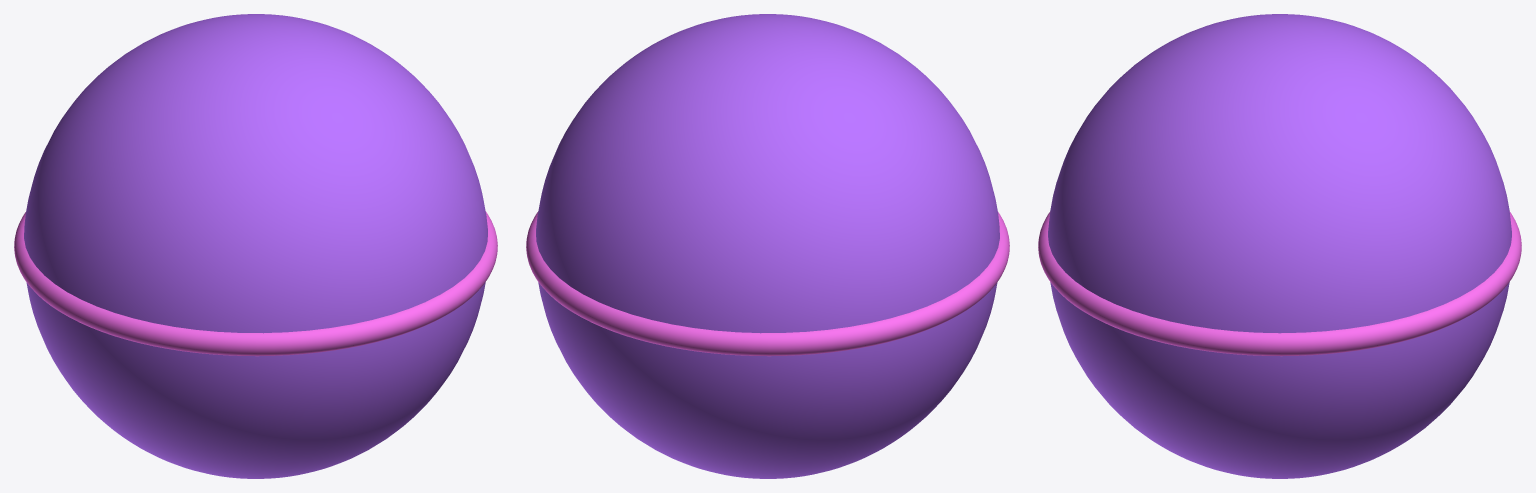
Rendered from herosphere.glb.
3 renders of one model, left to right at view 1: azimuth 30°, elevation 25°; view 2: azimuth 150°, elevation 25°; view 3: azimuth 270°, elevation 25°, orthographic.
Visible parts, largest first — view 1: sphere_body, sphere_band; view 2: sphere_body, sphere_band; view 3: sphere_body, sphere_band.
Boxes of the visible parts, left/top/right/bottom form: sphere_body: left=24, top=14, right=487, bottom=478; sphere_band: left=14, top=211, right=497, bottom=356; sphere_body: left=536, top=14, right=999, bottom=478; sphere_band: left=526, top=211, right=1009, bottom=356; sphere_body: left=1048, top=14, right=1511, bottom=478; sphere_band: left=1038, top=211, right=1521, bottom=356.
Bounding box in the file's own units: 1.04 × 1 × 1.04.
